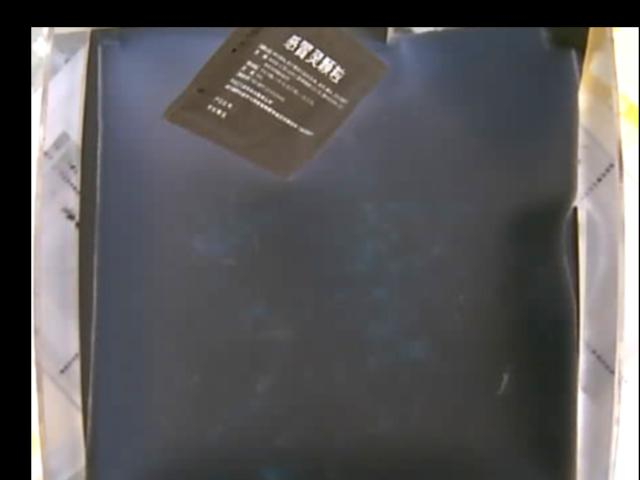Medicine: (163, 28, 389, 181)
